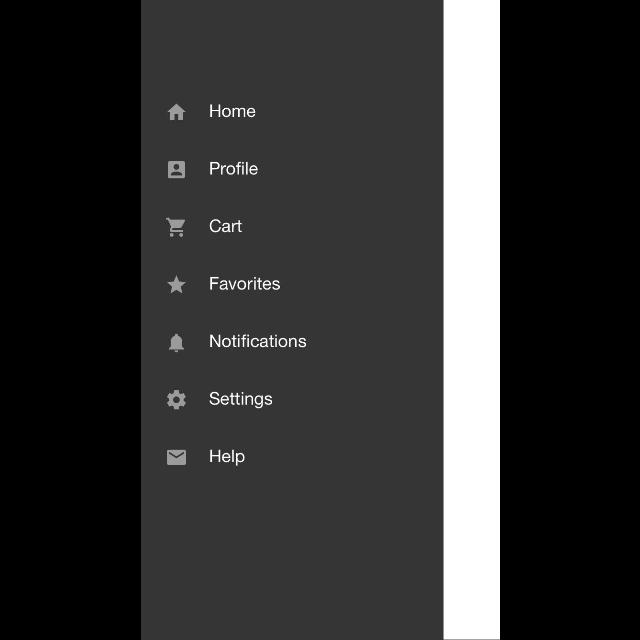icon: (167, 390, 186, 410), (165, 218, 185, 236), (166, 276, 184, 294), (166, 104, 186, 120), (166, 450, 186, 466), (168, 333, 184, 352), (167, 162, 185, 178)
panel: (141, 1, 443, 640)
text: (210, 334, 306, 348), (208, 391, 272, 409), (210, 277, 280, 291), (208, 162, 258, 175), (209, 104, 255, 118), (210, 450, 244, 466), (209, 220, 243, 232)
